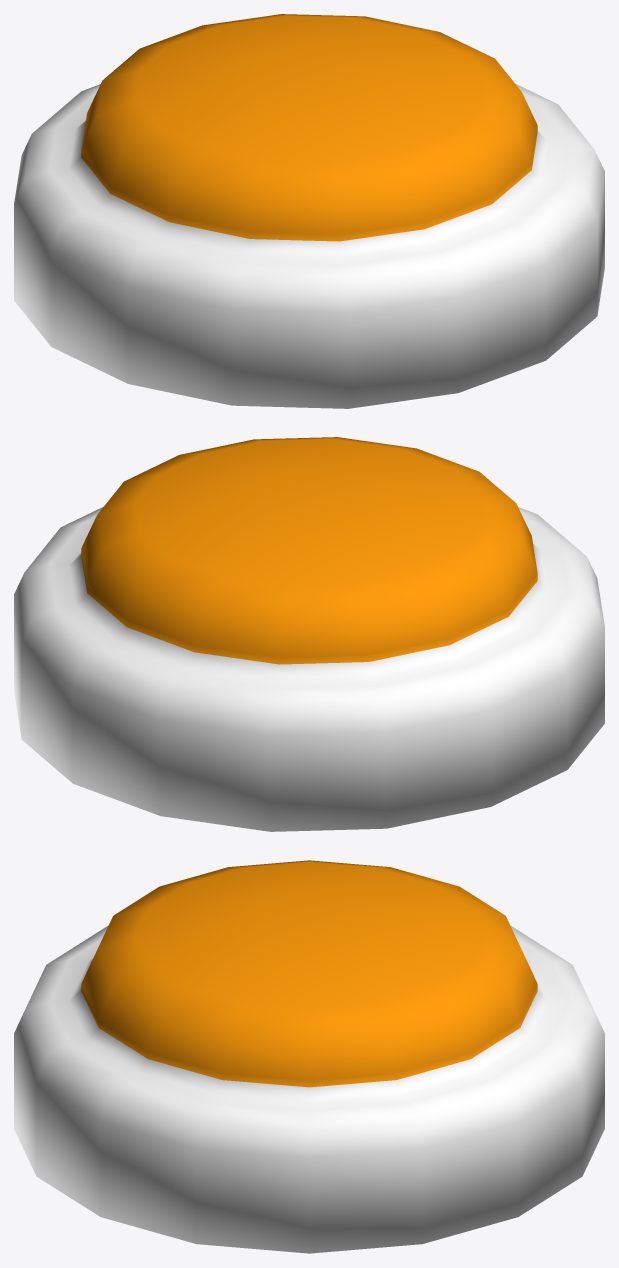
3 renders of one model, top to bottom at view 1: azimuth 30°, elevation 25°; view 2: azimuth 150°, elevation 25°; view 3: azimuth 270°, elevation 25°, orthographic.
Parts seen in each view (by area): view 1: 柱体; view 2: 柱体; view 3: 柱体.
Part boxes in pixels (x1,y1,x2,y2): 柱体: [14, 14, 604, 408]; 柱体: [14, 437, 604, 831]; 柱体: [14, 860, 604, 1253].
Bounding box in the file's own units: 2 × 0.7623 × 2.
Materials: 1 (1 with a texture image).
